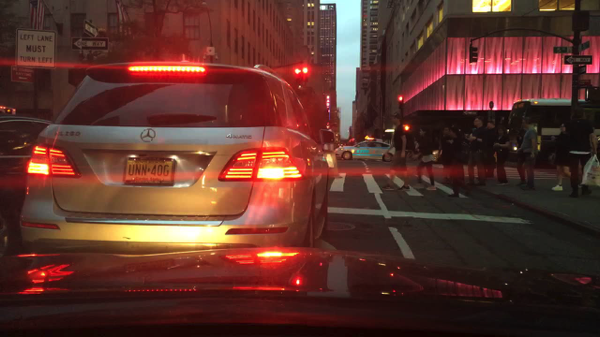bus: (507, 96, 596, 164)
car: (18, 58, 336, 256), (1, 115, 60, 254), (337, 140, 395, 162)
person: (380, 113, 411, 193), (570, 110, 597, 198), (515, 116, 538, 191), (413, 127, 439, 192), (466, 116, 488, 188), (442, 128, 463, 199), (551, 122, 572, 192), (441, 126, 461, 188), (485, 122, 497, 180)
traffic light: (469, 46, 478, 62), (302, 62, 310, 77), (398, 94, 404, 110), (293, 64, 301, 76), (403, 123, 411, 134)
traffic sign: (17, 28, 56, 70), (73, 37, 109, 51), (12, 67, 35, 84), (565, 54, 591, 65), (84, 19, 98, 36), (553, 46, 574, 55), (574, 42, 591, 52), (574, 65, 589, 74), (578, 78, 591, 88), (489, 100, 495, 110)
